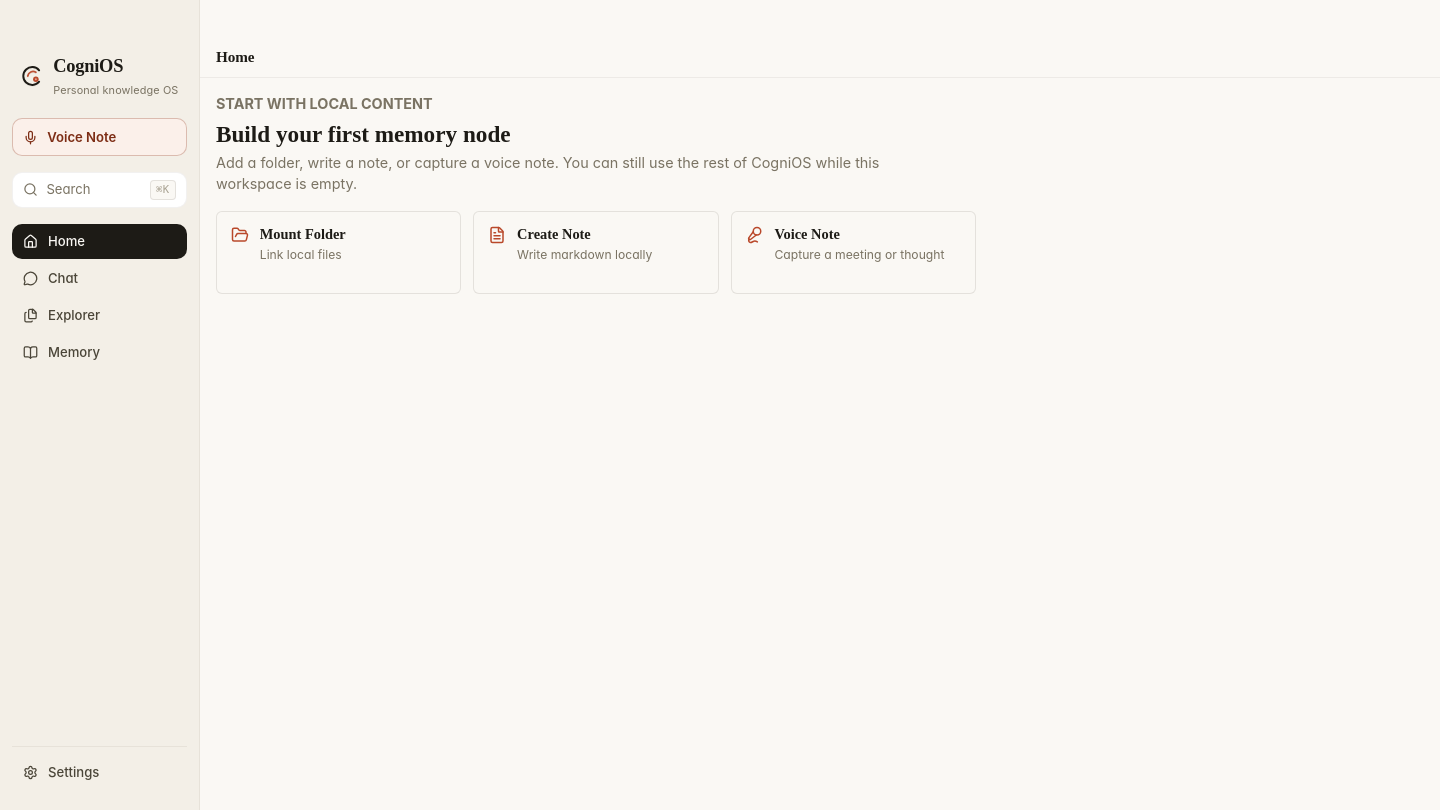
App › keeps source audio playback available after stopping a voice note
Click the button "Voice Note" at (100, 137), box [12,118,187,156]
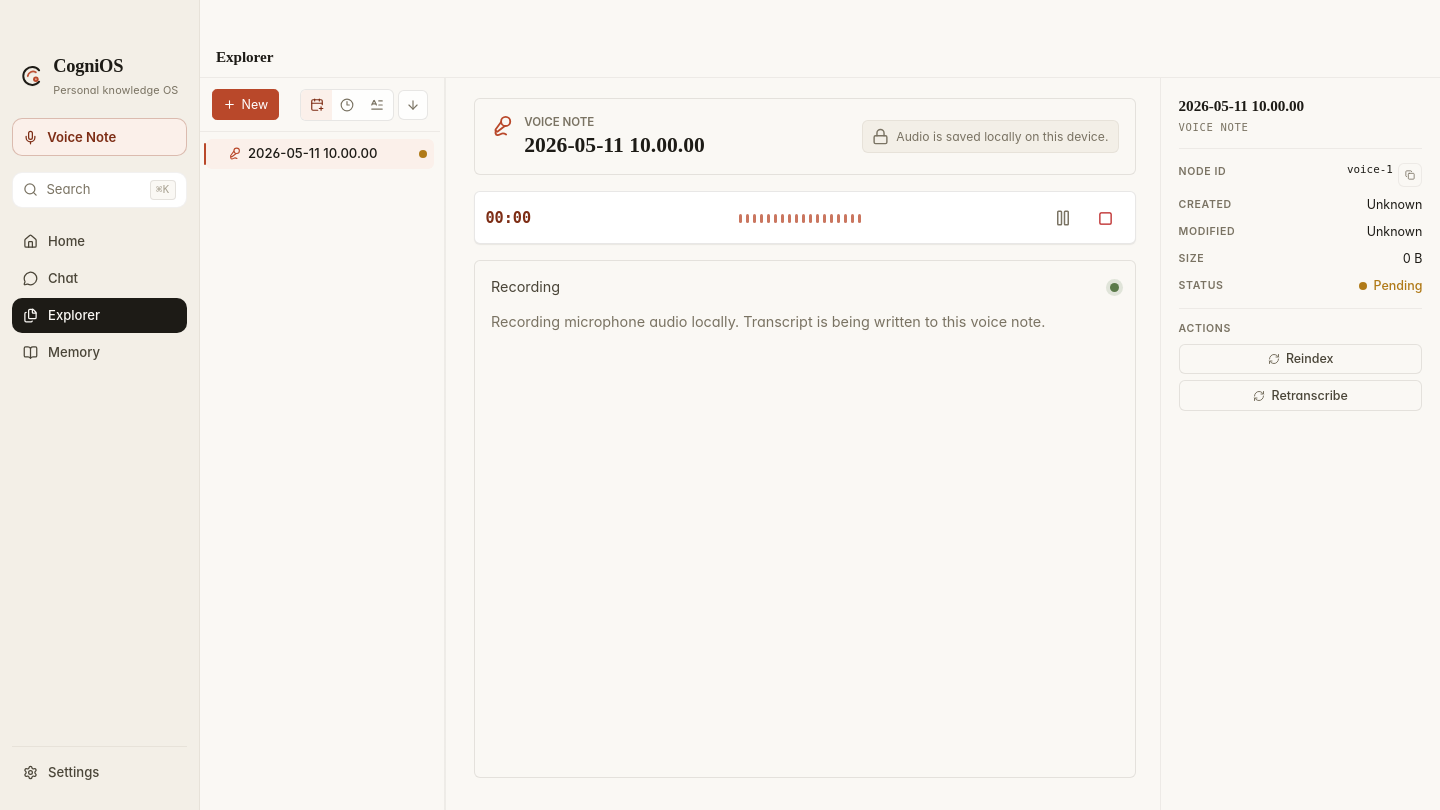
Click the button named "Stop recording" at (1106, 218), box [1091,203,1121,233]
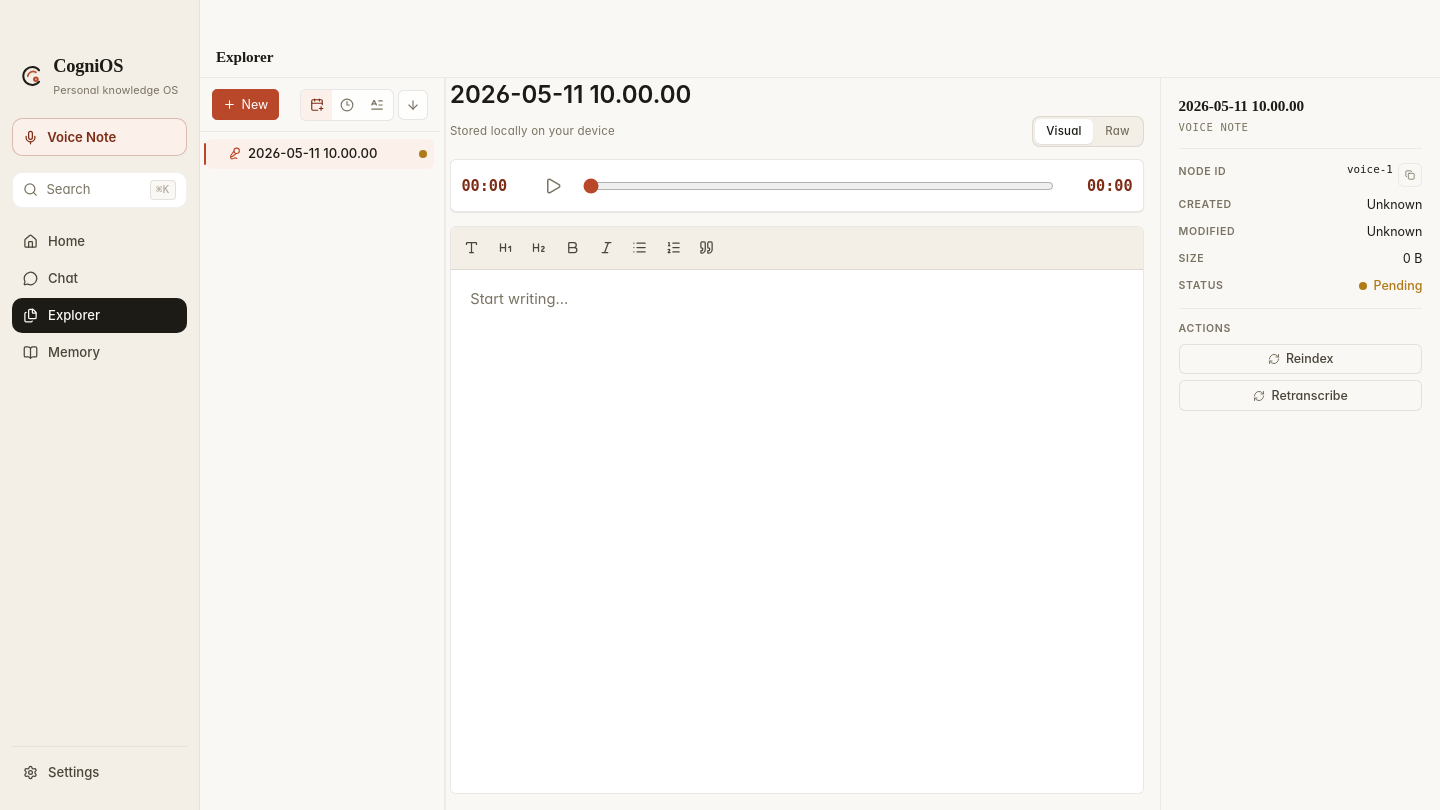
expect the element named "Source audio playback" is shown: met, box [450,159,1144,212]
expect the button named "Play source audio" is shown: met, box [538,171,568,200]
expect the slider named "Playback position" is shown: met, box [583,178,1054,194]
